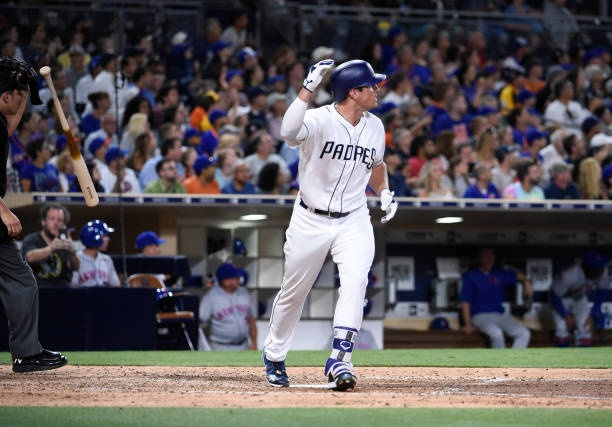bita: (41, 64, 99, 204)
